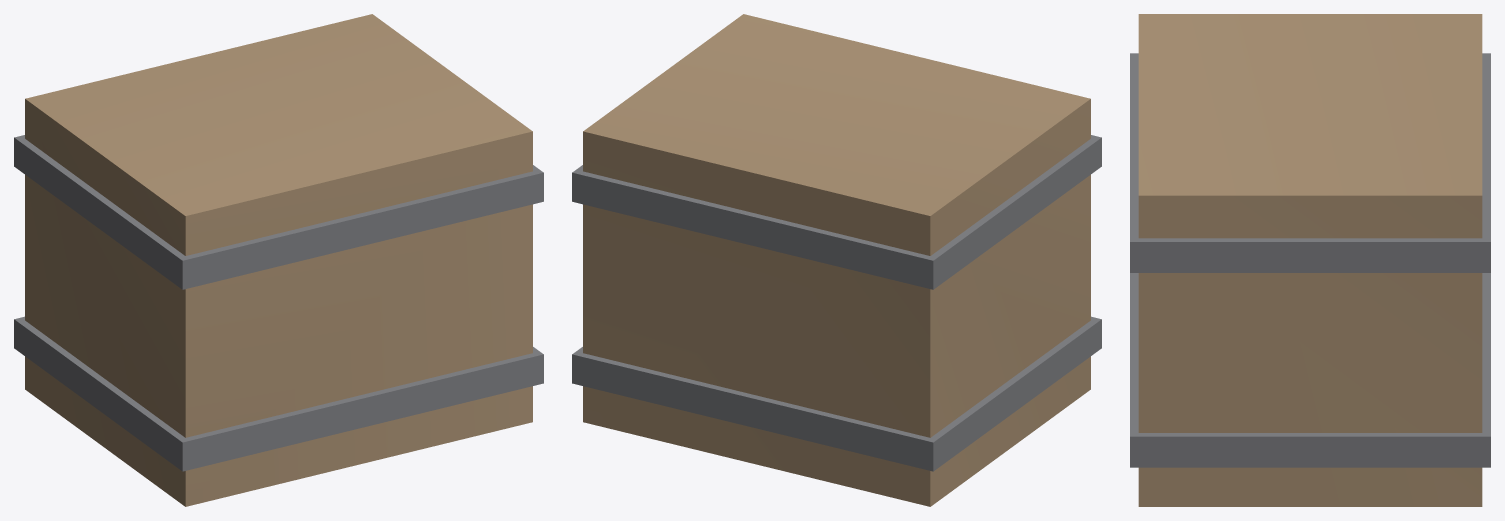
The model's file is crate.glb.
The picture shows the model from 3 angles, left to right: view 1: azimuth 30°, elevation 25°; view 2: azimuth 150°, elevation 25°; view 3: azimuth 270°, elevation 25°; orthographic projection. The views are drawn at different scales.
Visible parts, largest first — view 1: Crate; view 2: Crate; view 3: Crate.
Part boxes in pixels (x1=…): Crate: x1=14, y1=14, x2=543, y2=506; Crate: x1=572, y1=14, x2=1101, y2=506; Crate: x1=1130, y1=14, x2=1490, y2=506.
Bounding box in the file's own units: 1.04 × 0.8 × 0.84.
